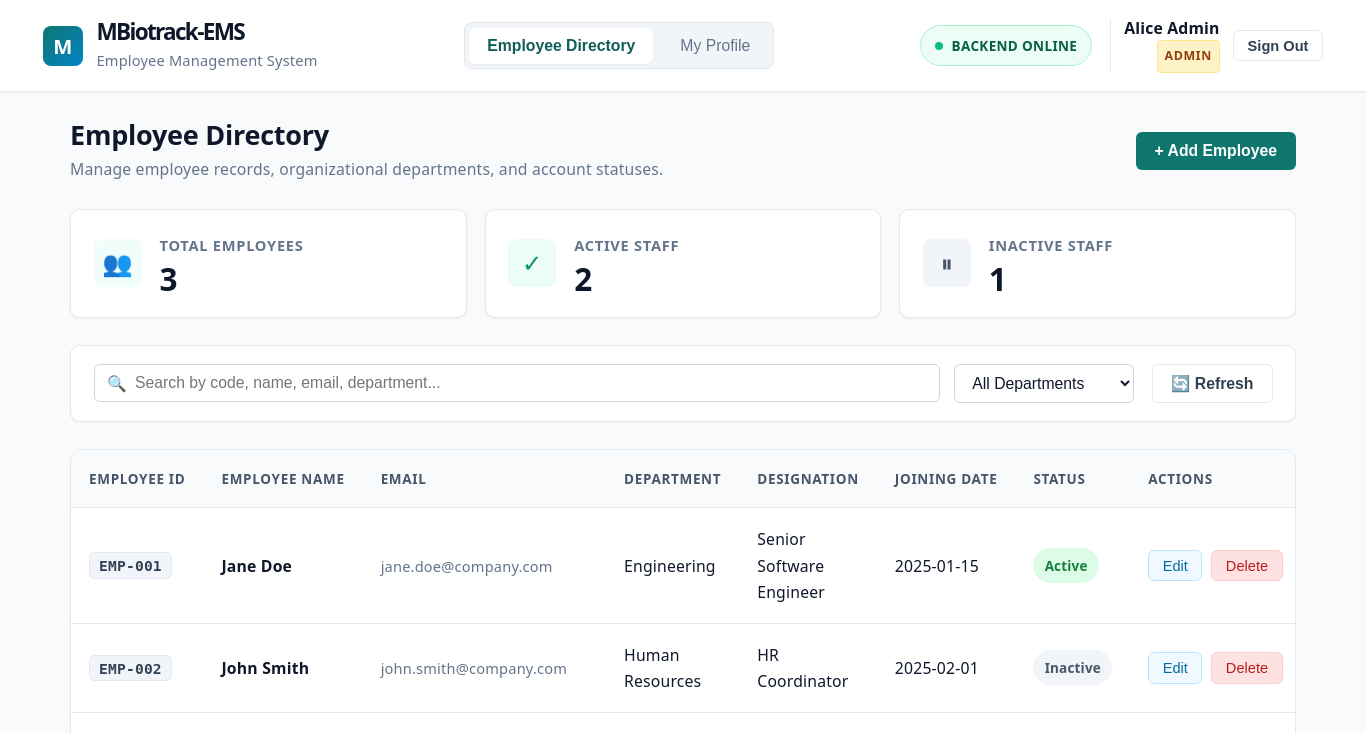
Test case: App component role-based access & directory UI › ADMIN role UI behavior › allows ADMIN to toggle between Employee Directory and My Profile when linked
The width and height of the screenshot is (1366, 733).
expect the heading "Employee Directory" is shown: met, box [70, 116, 329, 153]
Click the button "My Profile".
click(715, 46)  # box [662, 28, 768, 64]
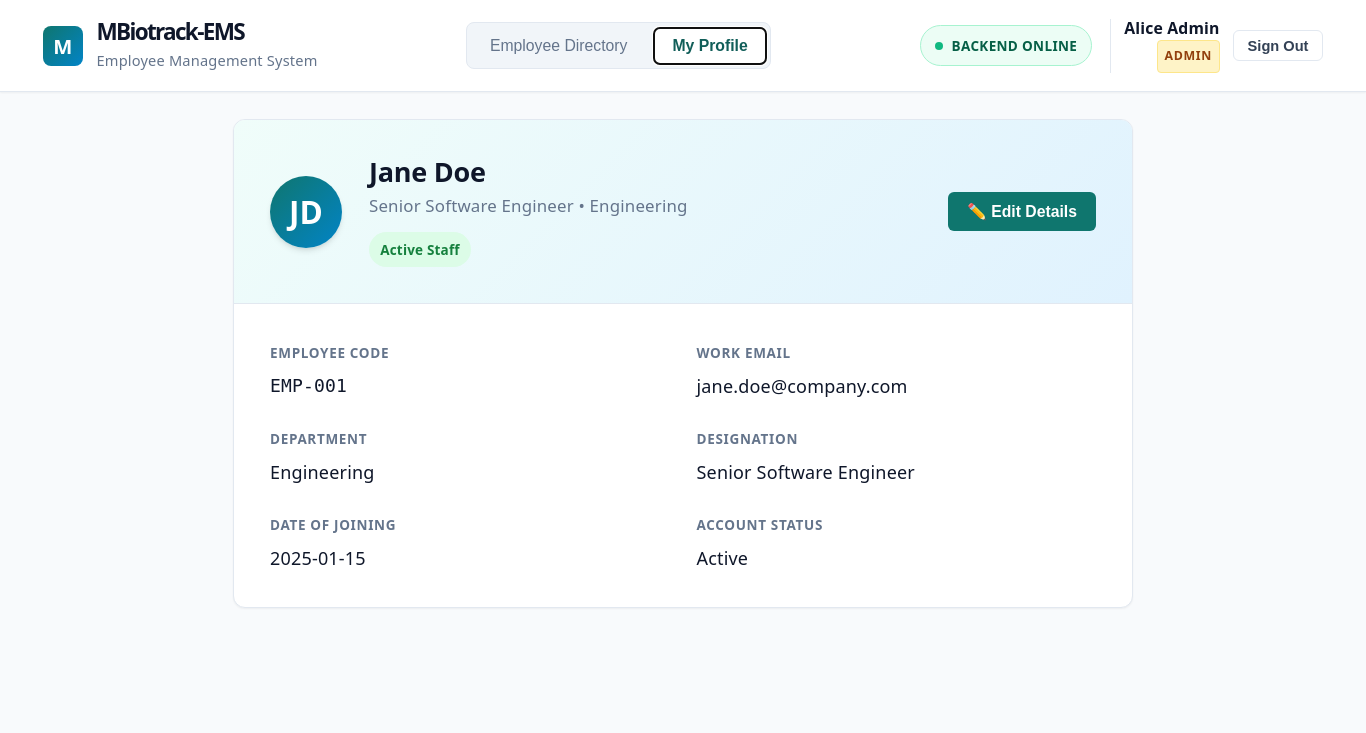
expect the heading "Jane Doe" is shown: met, box [369, 153, 486, 190]
